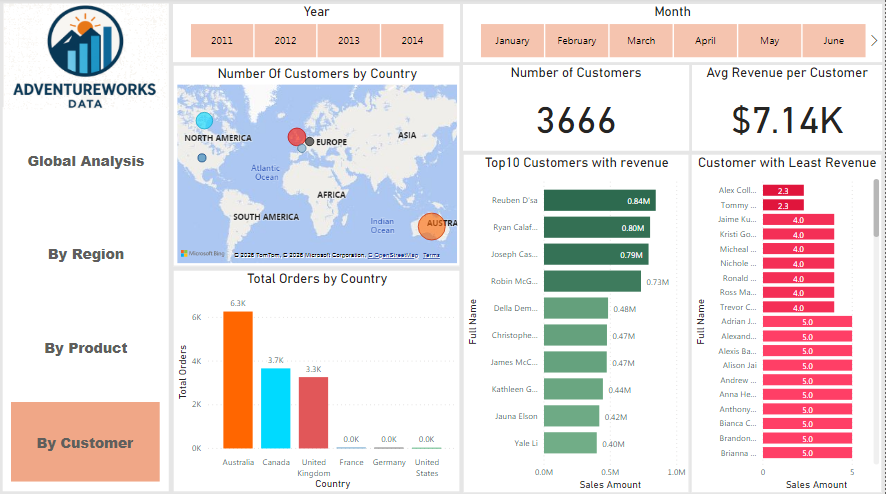

Layout of this report page (visuals, bound fields, positions):
{"tool":"powerbi","page":{"name":"Customers","canvas":[1280,720],"ordinal":3},"visuals":[{"type":"slicer","title":"Month","fields":{"Values":["Dim Date.Month Name"]},"box":[669.4,8.7,605.8,83.9],"z":0},{"type":"basicShape","box":[2,152,245,567],"z":0,"group":"g1"},{"type":"slicer","title":"Year","fields":{"Values":["Dim Date.Year"]},"box":[250.1,8.7,414.9,83.9],"z":1000},{"type":"actionButton","box":[34.4,176.7,181.8,115.4],"z":1000,"group":"g1"},{"type":"clusteredBarChart","title":"Customer with Least Revenue","fields":{"Category":["Dim Customer.Full Name"],"Y":["Fact Sales (Measures).Sales Amount"]},"box":[999,225.5,276.1,490.1],"z":2000},{"type":"actionButton","box":[34.4,311.9,181.8,115],"z":2000,"group":"g1"},{"type":"clusteredColumnChart","fields":{"Category":["Dim Customer.Country"],"Y":["Fact Sales (Measures).Total Orders"]},"box":[250.1,393.3,414.9,321],"z":3000},{"type":"actionButton","box":[34.4,448.7,181.8,115],"z":3000,"group":"g1"},{"type":"map","title":"Number Of Customers by Country","fields":{"Size":["Vw Fact Customer 1.NumberOfCustomers"],"Category":["Dim Customer.Country"]},"box":[250.1,96.9,414.9,290.6],"z":4000},{"type":"actionButton","box":[34.4,583.9,181.8,115.4],"z":4000,"group":"g1"},{"type":"card","title":"Number of Customers","fields":{"Values":["Vw Fact Customer 1.NumberOfCustomers"]},"box":[669.4,96.9,326.7,124.3],"z":5000},{"type":"barChart","title":"Top10 Customers with revenue","fields":{"Y":["Fact Sales (Measures).Sales Amount"],"Category":["Dim Customer.Full Name"]},"box":[669.4,225.5,326.7,490.1],"z":6000},{"type":"group","id":"g1","title":"Side_Menu","box":[2,152,245,567],"z":7000},{"type":"image","box":[0,3.4,249,162.7],"z":8000},{"type":"actionButton","box":[17.1,583.9,214.5,115.4],"z":8000,"group":"g1"},{"type":"card","title":"Avg Revenue per Customer","fields":{"Values":["Fact Sales (Measures).Avg Revenue per Customer"]},"box":[1000.5,96.9,274.7,124.3],"z":9000}]}

Visuals, with their boxes in screenshot pixels (x1, y1, x2, y2), scaled from the page's 1280x720 canvas onto the 886x494 screenshot:
"Month" slicer: (463, 6, 883, 64)
basicShape: (1, 104, 171, 493)
"Year" slicer: (173, 6, 460, 64)
actionButton: (24, 121, 150, 200)
"Customer with Least Revenue" clusteredBarChart: (691, 155, 883, 491)
actionButton: (24, 214, 150, 293)
clusteredColumnChart - Dim Customer.Country x Fact Sales (Measures).Total Orders: (173, 270, 460, 490)
actionButton: (24, 308, 150, 387)
"Number Of Customers by Country" map: (173, 66, 460, 266)
actionButton: (24, 401, 150, 480)
"Number of Customers" card: (463, 66, 689, 152)
"Top10 Customers with revenue" barChart: (463, 155, 689, 491)
"Side_Menu" group: (1, 104, 171, 493)
image: (0, 2, 172, 114)
actionButton: (12, 401, 160, 480)
"Avg Revenue per Customer" card: (693, 66, 883, 152)
